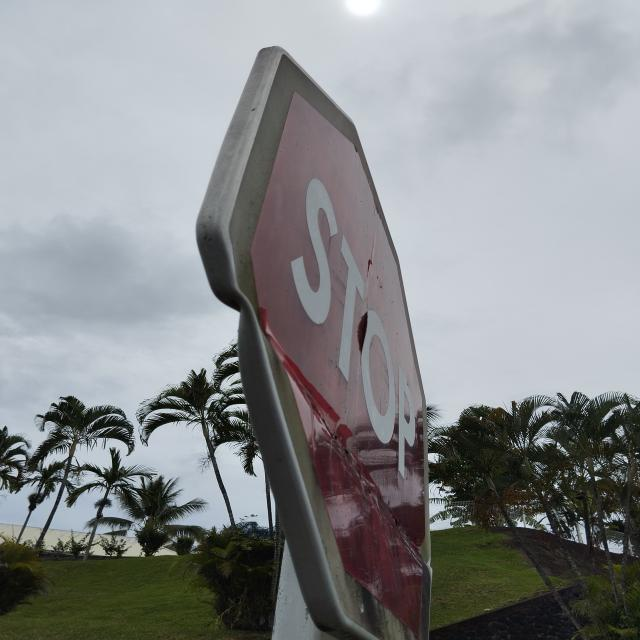Panneau-Stop: (196, 36, 436, 640)
